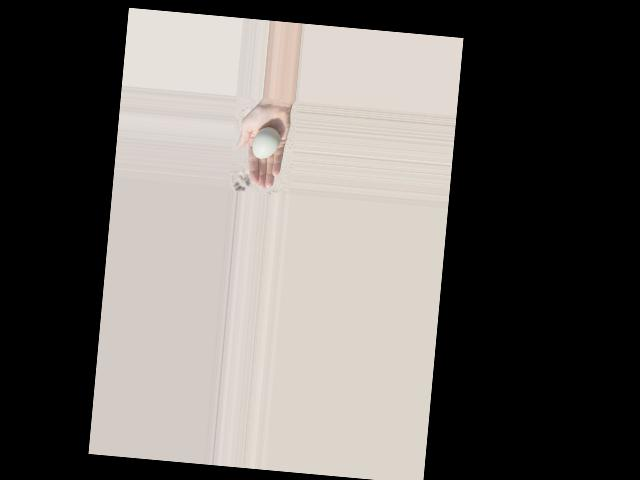egg: (252, 126, 281, 159)
